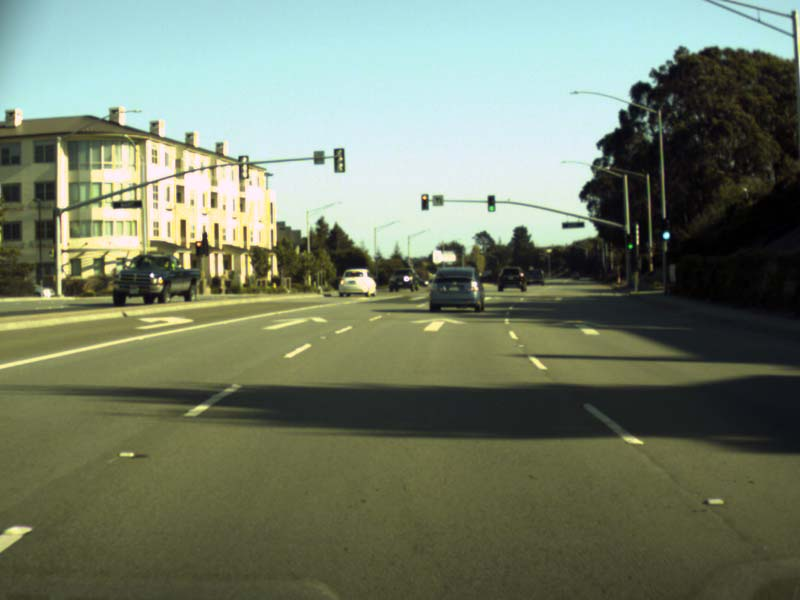Green: (662, 219, 669, 240), (487, 195, 495, 211), (626, 234, 633, 251)
Red: (420, 193, 428, 210), (195, 241, 201, 255)
